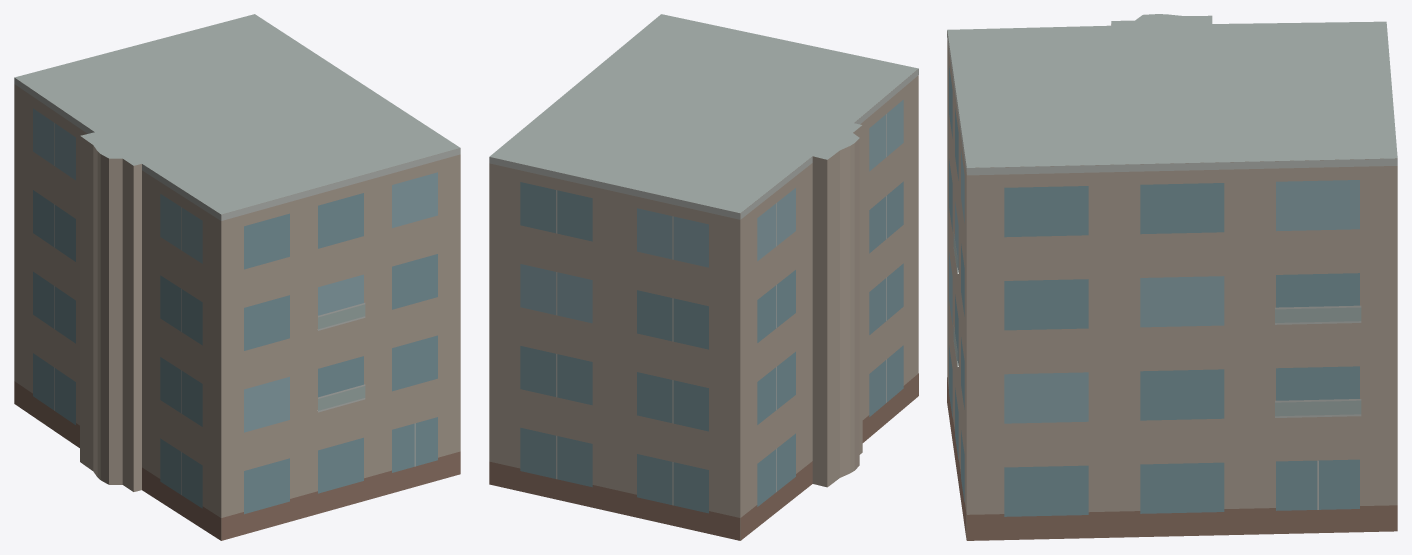
The model's file is survey-upis-32755469.glb.
3 views of the same model, side by side, from view 1: azimuth 30°, elevation 25°; view 2: azimuth 150°, elevation 25°; view 3: azimuth 270°, elevation 25° (orthographic). The views are drawn at different scales.
Visible parts, largest first — view 1: survey-upis-32755469.tmp; view 2: survey-upis-32755469.tmp; view 3: survey-upis-32755469.tmp.
Boxes of the visible parts, left/top/right/bottom form: survey-upis-32755469.tmp: left=14, top=14, right=460, bottom=540; survey-upis-32755469.tmp: left=489, top=14, right=918, bottom=540; survey-upis-32755469.tmp: left=947, top=14, right=1397, bottom=540.
Bounding box in the file's own units: 10.81 × 12.2 × 13.37.
